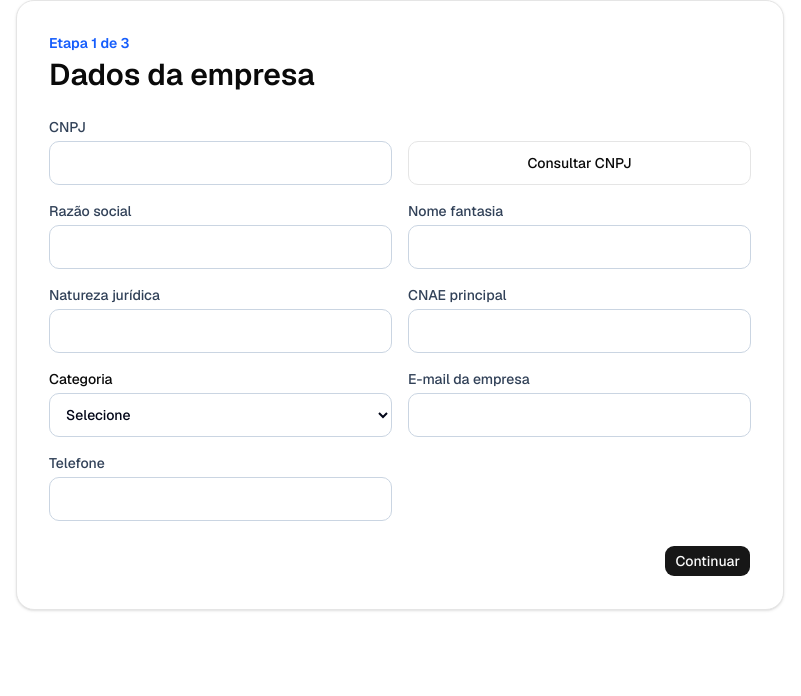
TenantOnboarding › keeps company values and does not advance after lookup HTTP 400
Type "00000000000191" into the field labelled "CNPJ" at (220, 163), box [49,141,392,185]
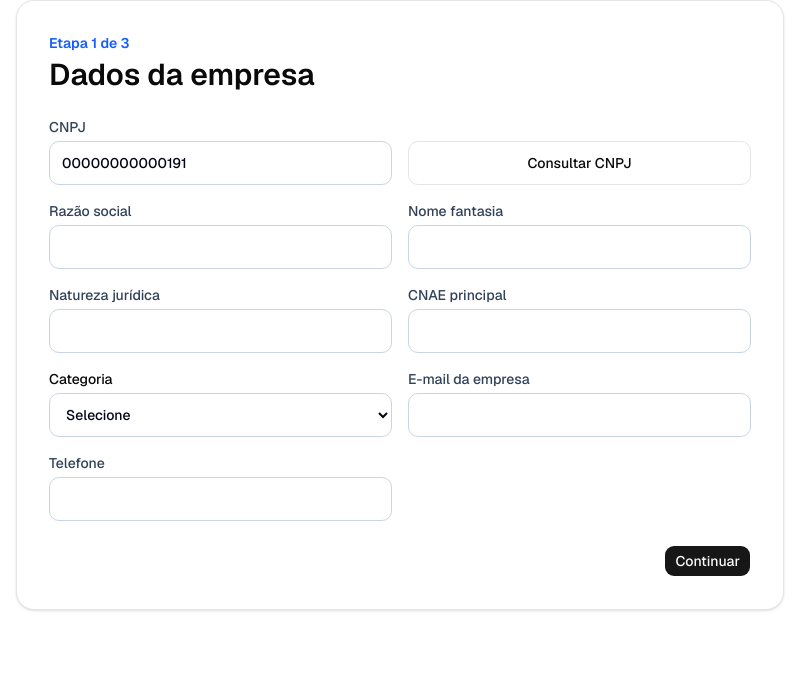
Type "Valor preservado" into the field labelled "Razão social" at (220, 247), box [49,225,392,269]
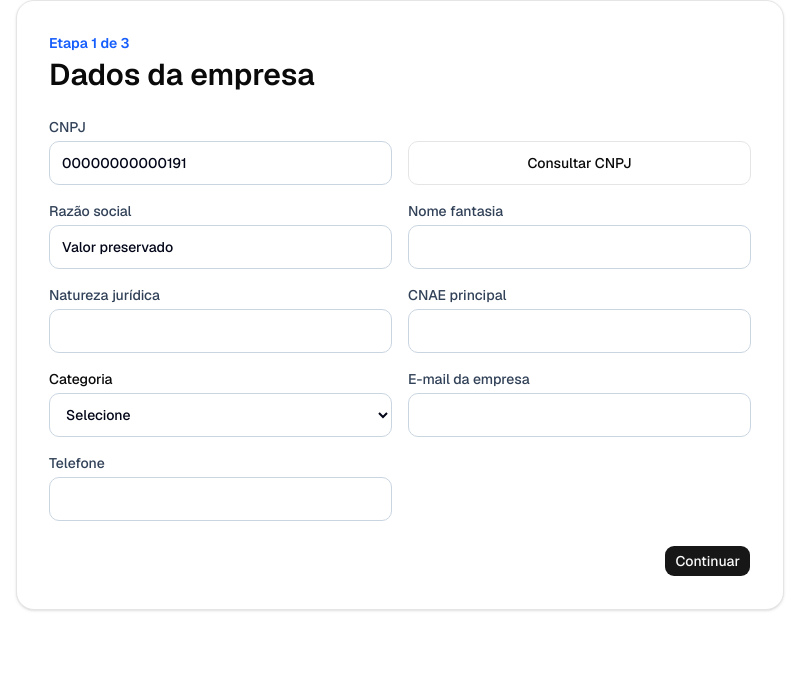
Click the button "Consultar CNPJ" at (580, 163), box [408,141,751,185]
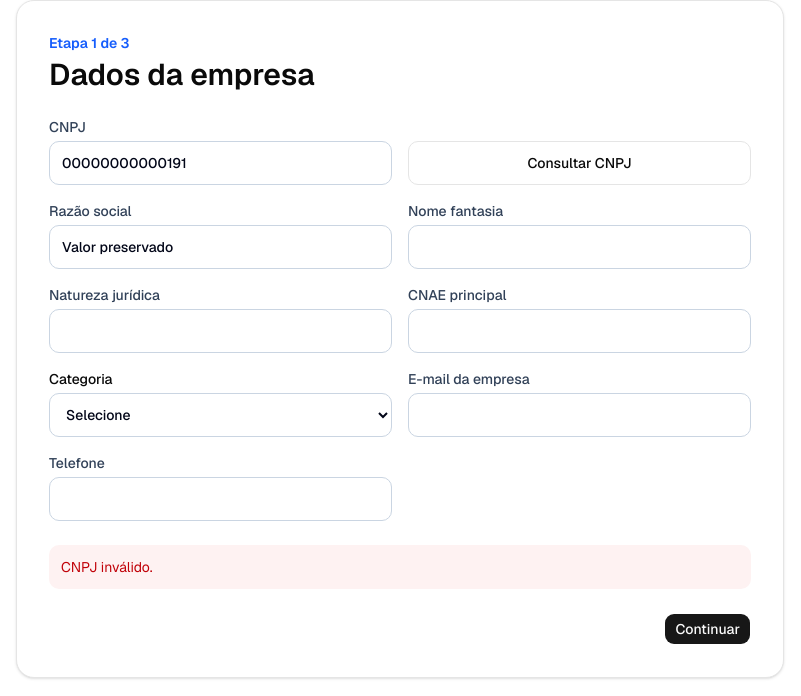
Expected: the heading "Dados da empresa" is shown, [49,55,315,94]
Result: the message reads "CNPJ inválido." at [61,558,153,576]
